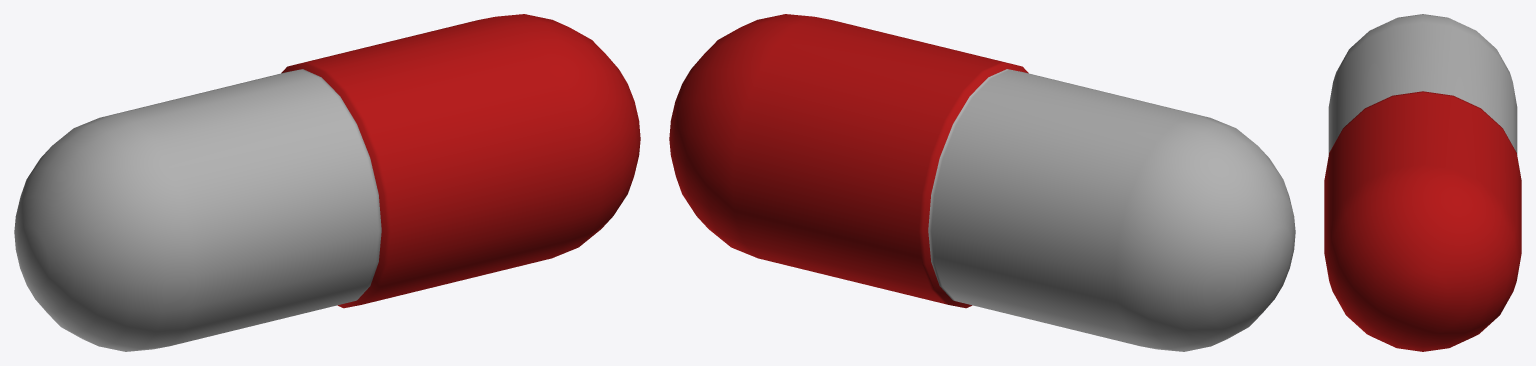
Rendered from capsule_red.fbx.
3 renders of one model, left to right at view 1: azimuth 30°, elevation 25°; view 2: azimuth 150°, elevation 25°; view 3: azimuth 270°, elevation 25°, orthographic. The views are drawn at different scales.
Parts seen in each view (by area): view 1: pSphere3.001; view 2: pSphere3.001; view 3: pSphere3.001.
Part boxes in pixels (x1,y1,x2,y2): pSphere3.001: [14, 14, 640, 351]; pSphere3.001: [669, 14, 1295, 351]; pSphere3.001: [1324, 14, 1521, 351].
Size of the model in its own units: 0.602 by 0.2209 by 0.2209.
